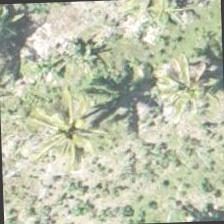Kelapa_Sawit: (28, 83, 121, 176), (140, 37, 224, 131)
